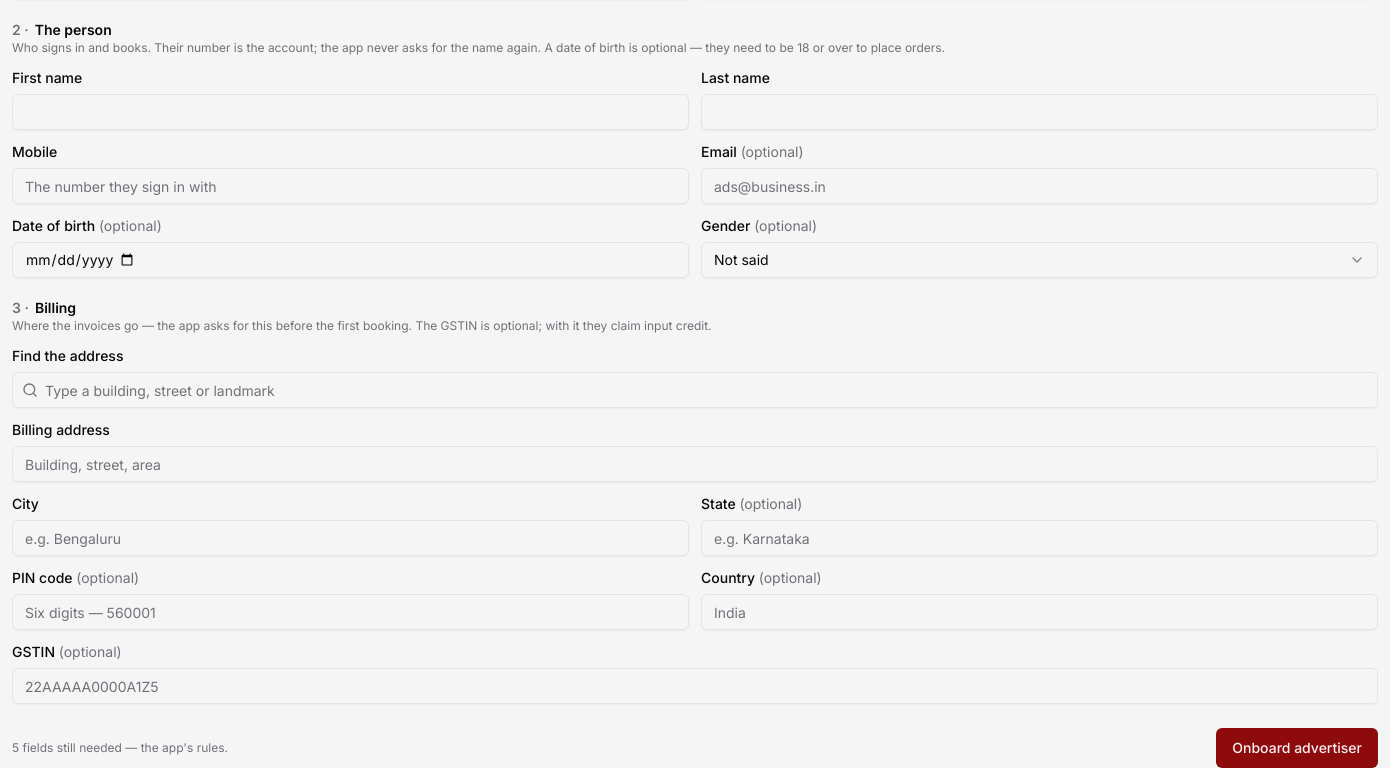
it: AdvertiserOnboardingForm › applies the app's rules — the billing address and city for everyone, a company name for anyone but an individual
(page scrolled)
Click the button with test id "af-submit": click(1297, 748) [1216,728,1378,767]
(page scrolled)
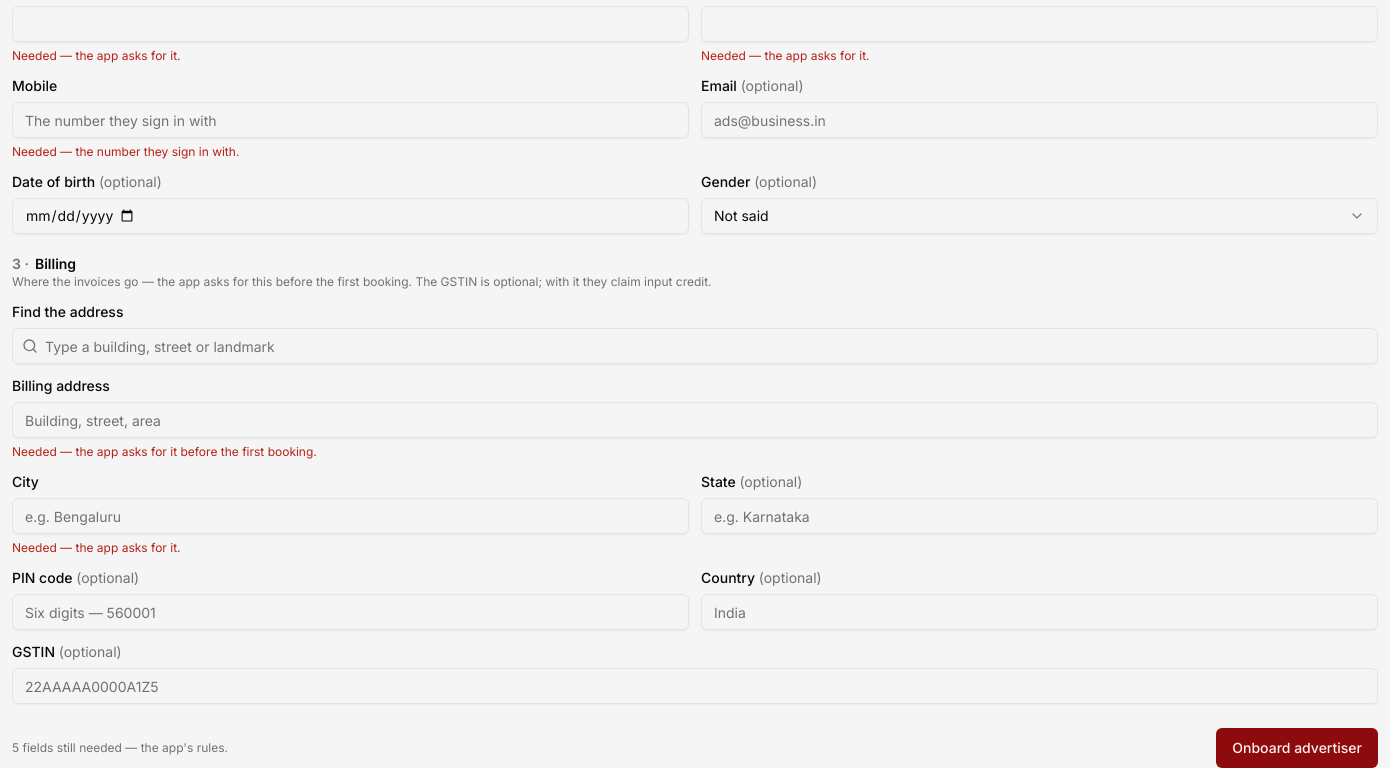
Expected: the text "5 fields still needed — the app's rules." is shown, [12,740,228,756]
Expected: the message "Needed — the app asks for it." below "First name" is shown, [12,48,180,63]
Expected: the message "Needed — the app asks for it before the first booking." is shown, [12,444,317,459]
